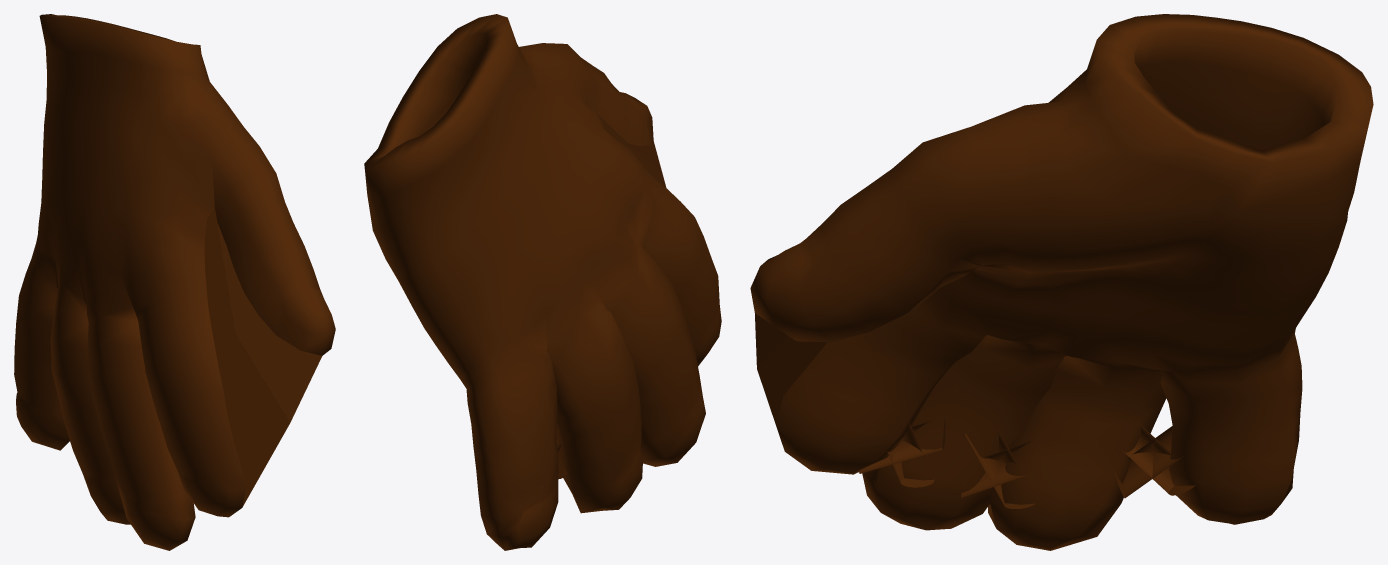
The model's file is guante.glb.
3 renders of one model, left to right at view 1: azimuth 30°, elevation 25°; view 2: azimuth 150°, elevation 25°; view 3: azimuth 270°, elevation 25°, orthographic. The views are drawn at different scales.
Visible parts, largest first — view 1: guantes.001; view 2: guantes.001; view 3: guantes.001.
Boxes of the visible parts, left/top/right/bottom form: guantes.001: left=14, top=14, right=335, bottom=550; guantes.001: left=364, top=14, right=721, bottom=550; guantes.001: left=750, top=14, right=1373, bottom=550.
Size of the model in its own units: 0.3825 by 1 by 1.
